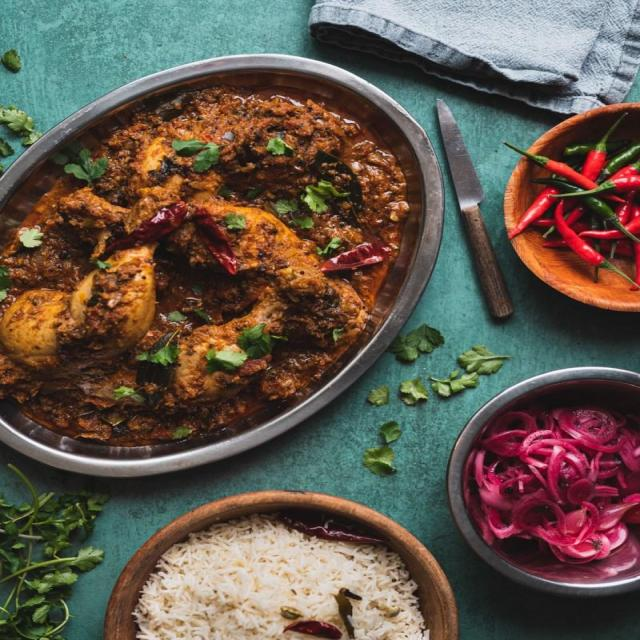chicken: (14, 50, 430, 451)
rice: (108, 522, 434, 640)
